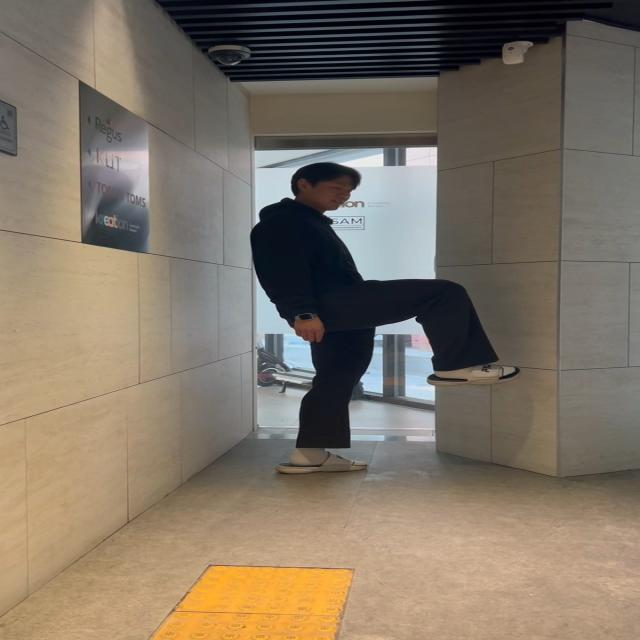knee: (369, 259, 540, 414)
